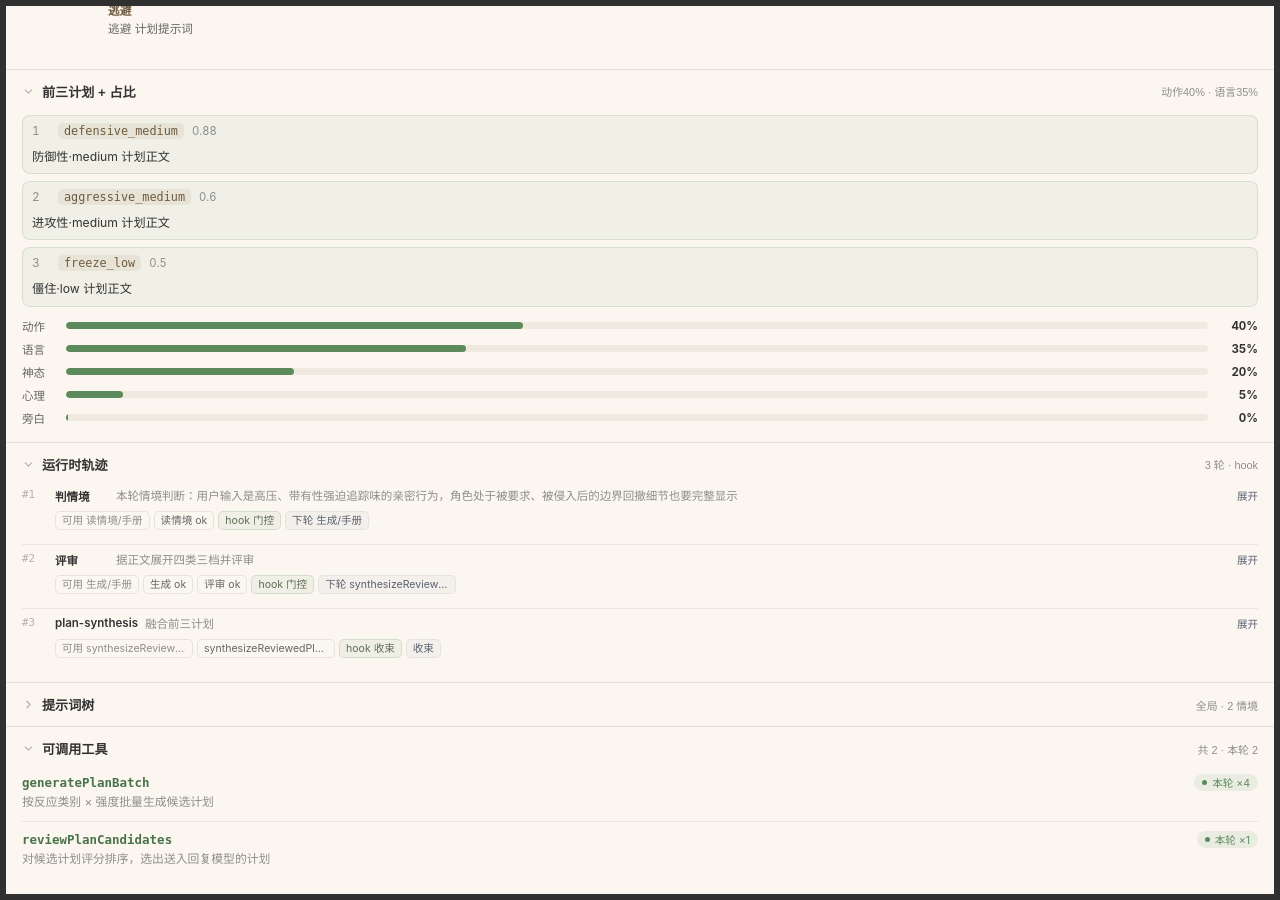
Test: PersonalityModelOrchestrationAuditPanel › 提示词树的小绿点能从 runtime 已读取情境解析，不依赖顶层 scenario 字段
(page scrolled)
Click the button with class "sec-h2" showing "提示词树 全局 · 2 情境" at (68,706), box [6,683,1274,726]
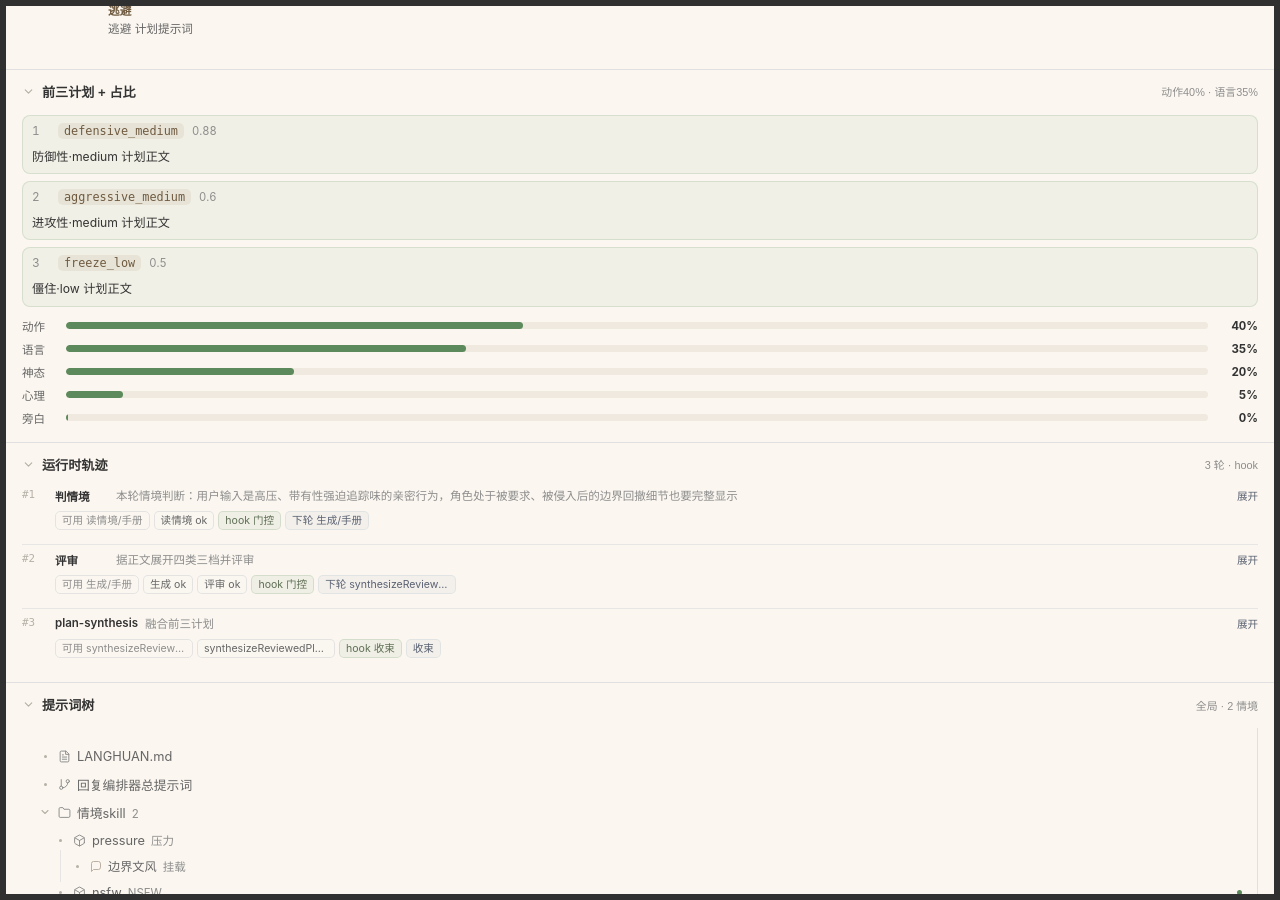
Check: the element with class "tn-read" is shown, box [1237,890,1242,894]
